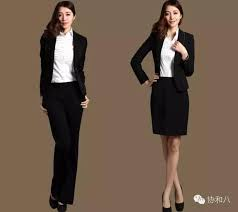F_dress pants: (33, 76, 91, 206)
F_tailored skirt: (147, 73, 192, 140)
S_business casual jacket: (123, 24, 205, 90), (30, 27, 95, 103)
